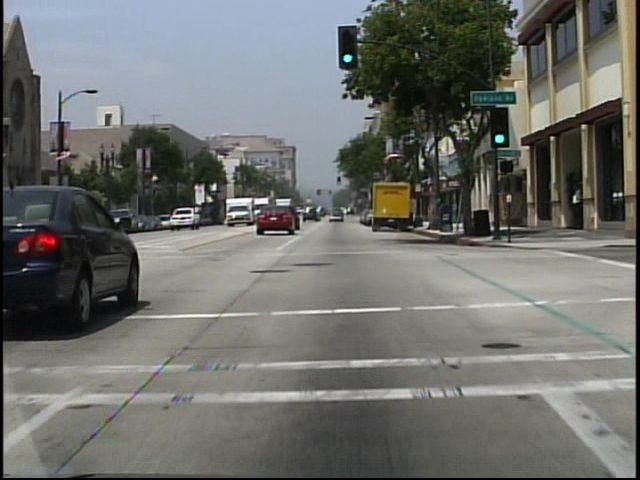person: (571, 190, 582, 230)
